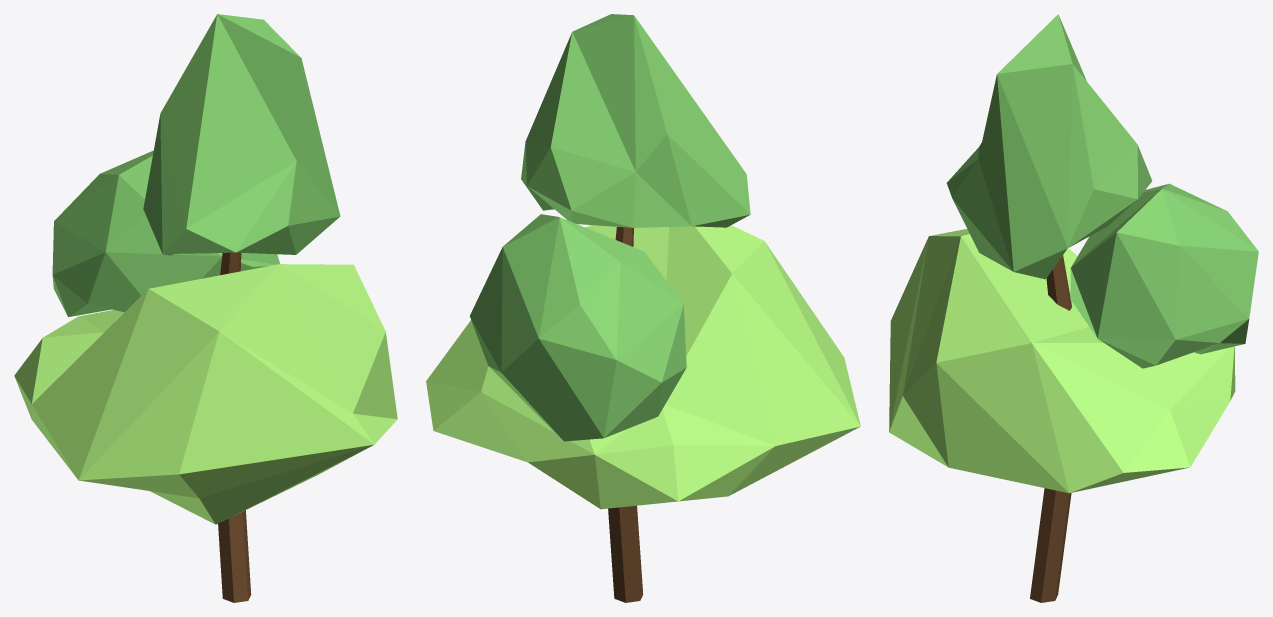
Rendered from Tree_Type4_1.fbx.
3 renders of one model, left to right at view 1: azimuth 30°, elevation 25°; view 2: azimuth 150°, elevation 25°; view 3: azimuth 270°, elevation 25°, orthographic. The views are drawn at different scales.
Parts seen in each view (by area): view 1: Tree_Type4_1; view 2: Tree_Type4_1; view 3: Tree_Type4_1.
Part boxes in pixels (box(x1,y1,x2,y2)): Tree_Type4_1: box(14, 14, 397, 602); Tree_Type4_1: box(426, 14, 860, 602); Tree_Type4_1: box(889, 14, 1258, 602).
Size of the model in its own units: 194 by 303 by 176.
